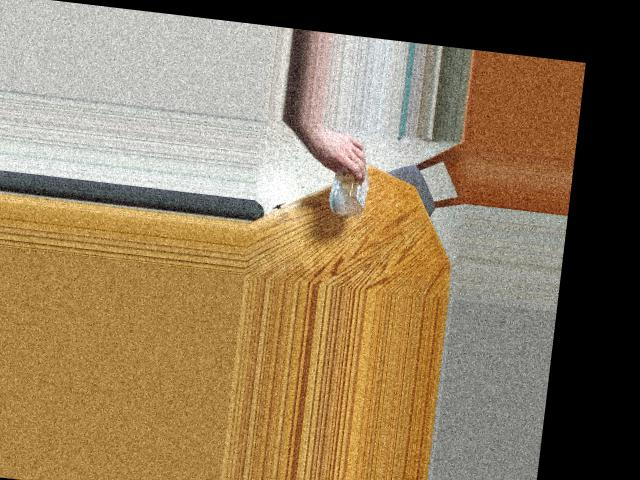cheese: (304, 157, 384, 219)
